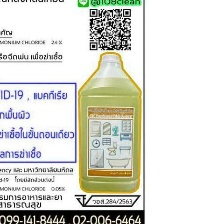cleaning_solution: (74, 49, 142, 196)
